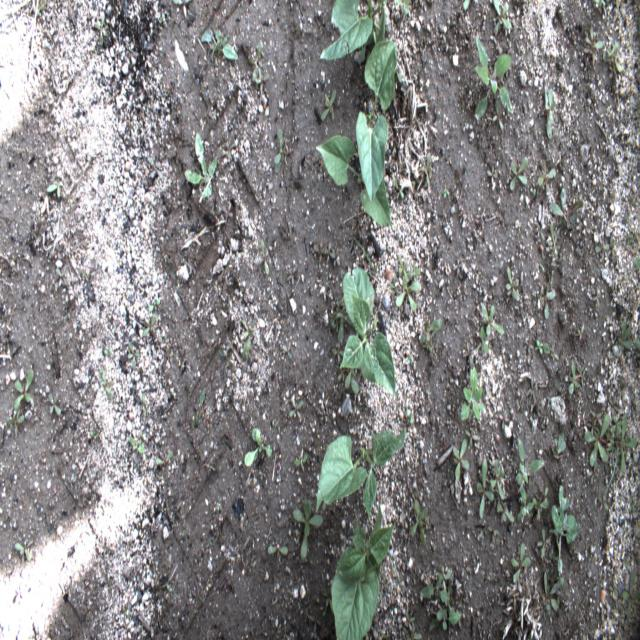crop: (331, 495, 393, 639), (316, 425, 405, 520), (341, 264, 397, 398), (355, 40, 398, 205), (316, 134, 392, 227), (315, 0, 388, 60)
weed: (470, 28, 513, 122), (180, 122, 219, 205), (550, 484, 583, 566), (289, 497, 327, 564), (548, 183, 586, 240), (610, 411, 637, 485), (513, 432, 544, 486), (460, 368, 486, 431), (581, 414, 611, 465), (476, 452, 496, 525), (243, 428, 276, 472), (422, 565, 456, 607), (392, 270, 422, 316), (11, 361, 36, 414), (198, 29, 240, 60), (543, 560, 565, 618), (407, 502, 431, 552), (510, 538, 534, 587), (539, 78, 557, 143), (479, 298, 508, 336), (252, 42, 270, 103), (539, 284, 561, 328), (620, 568, 636, 628), (508, 153, 530, 196), (452, 437, 469, 490), (610, 323, 634, 360), (270, 122, 286, 176), (434, 602, 462, 632), (542, 214, 562, 256), (535, 164, 559, 199), (582, 24, 602, 65), (267, 528, 292, 560), (515, 486, 537, 522), (98, 365, 116, 406), (4, 412, 27, 444), (493, 1, 513, 37), (200, 389, 217, 430), (504, 262, 521, 303), (567, 355, 584, 396), (604, 44, 623, 80), (423, 323, 442, 358), (260, 232, 275, 276), (320, 92, 340, 123), (242, 317, 256, 361), (52, 264, 73, 293), (496, 489, 513, 524), (552, 426, 570, 459), (528, 371, 541, 416), (140, 310, 158, 342), (12, 538, 34, 564), (312, 231, 329, 263), (593, 232, 612, 260), (129, 428, 147, 457), (341, 372, 364, 394), (48, 172, 66, 200), (493, 448, 504, 492), (47, 392, 65, 418), (126, 344, 141, 374), (420, 155, 432, 192), (296, 448, 313, 474), (156, 444, 173, 470), (337, 299, 345, 354), (539, 530, 554, 559), (288, 399, 306, 423), (396, 247, 409, 275), (405, 610, 420, 634), (439, 181, 455, 203), (86, 415, 100, 440), (329, 240, 341, 265), (484, 168, 499, 188), (281, 340, 294, 363), (487, 521, 500, 544), (406, 403, 415, 433), (537, 344, 559, 356), (94, 18, 108, 36), (480, 331, 490, 356), (318, 592, 328, 617), (576, 327, 590, 344), (140, 395, 150, 418), (592, 0, 610, 12), (404, 352, 415, 371), (460, 1, 472, 13), (633, 251, 638, 275)
